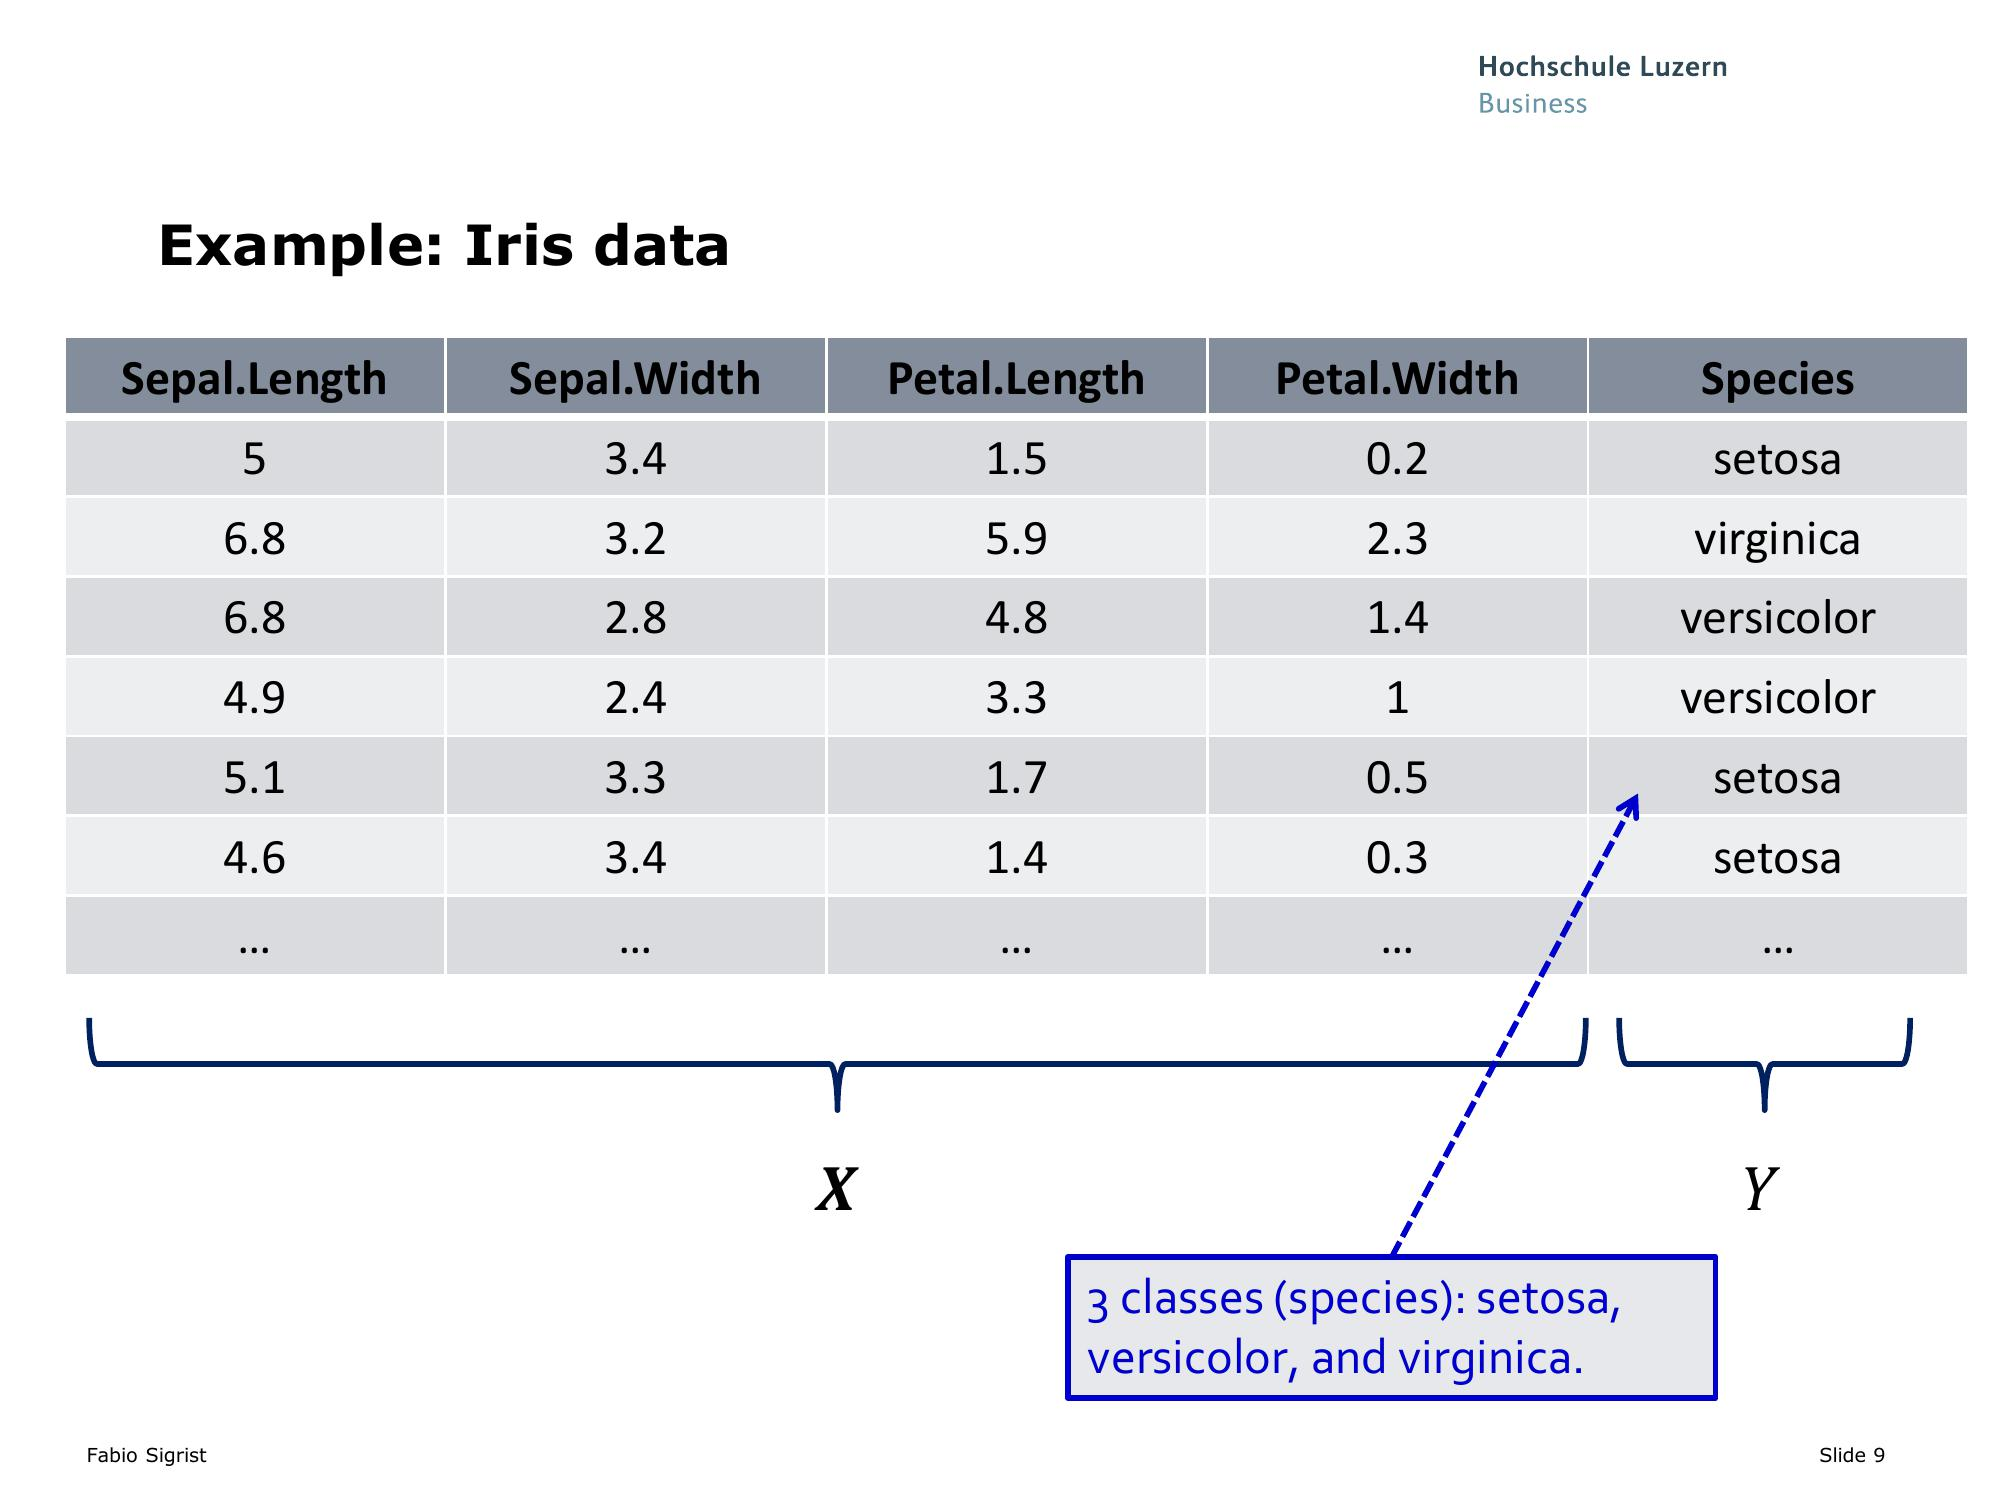Title: (139, 211, 753, 280)
